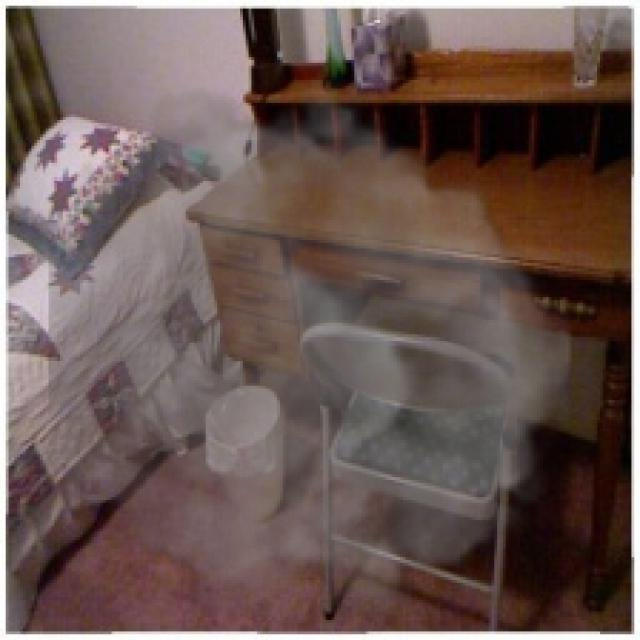Smoke: (49, 68, 572, 634)
